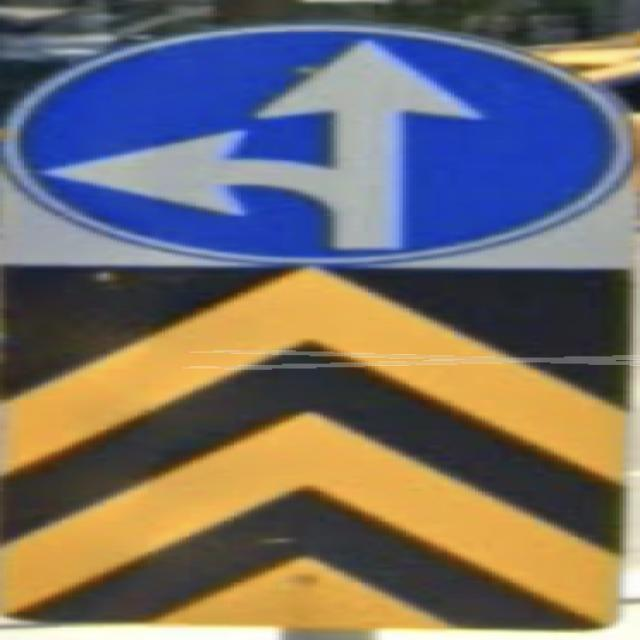Straight or Left: (6, 27, 626, 266)
